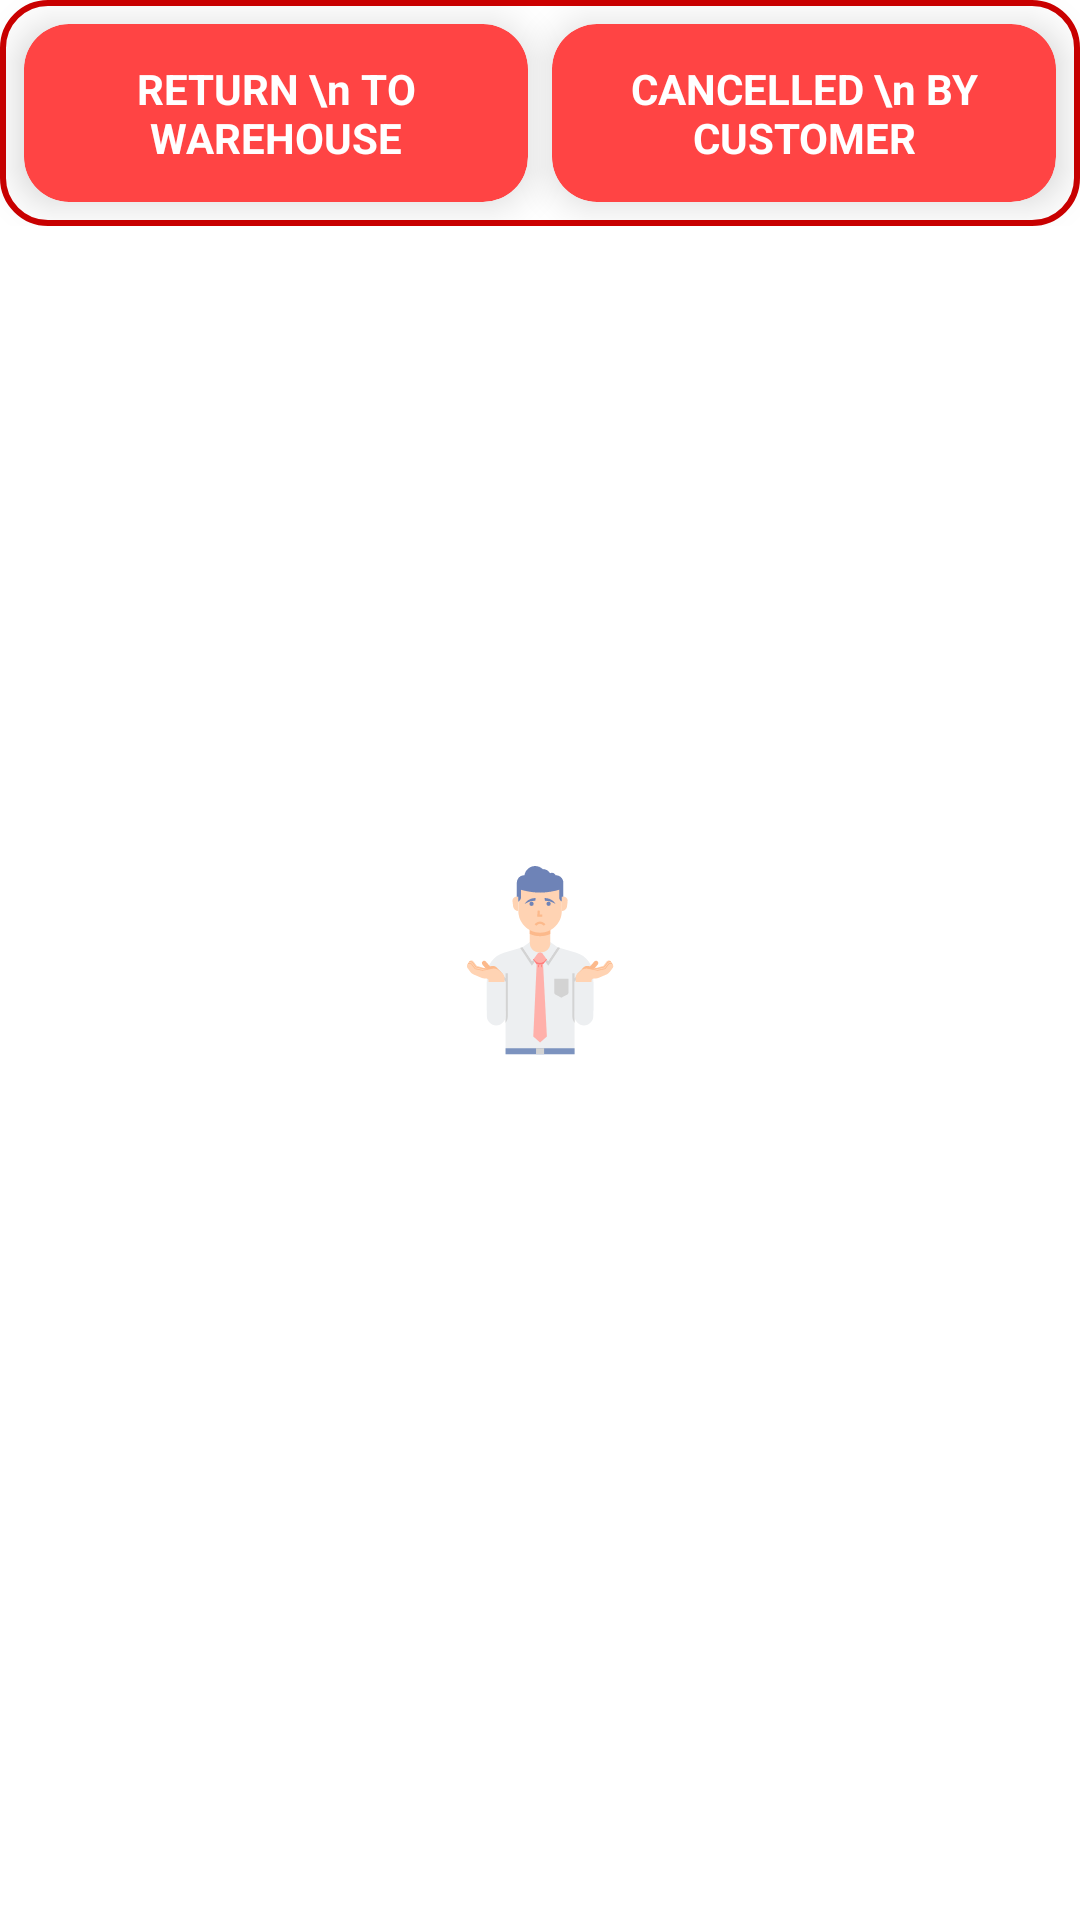

Named icons in this screenshot (1080×1920) and their bounding boxes, (x1, y1, x2, y2):
indecisive: (467, 866, 613, 1055)
